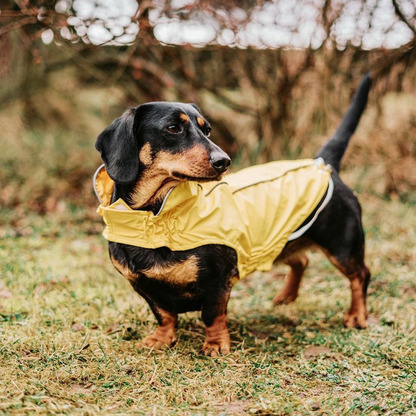dachshund: (73, 85, 391, 361)
